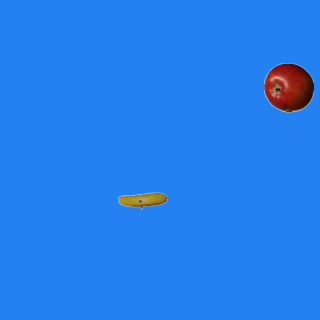Apple Braeburn: (263, 62, 313, 112)
Banana: (117, 175, 167, 225)
